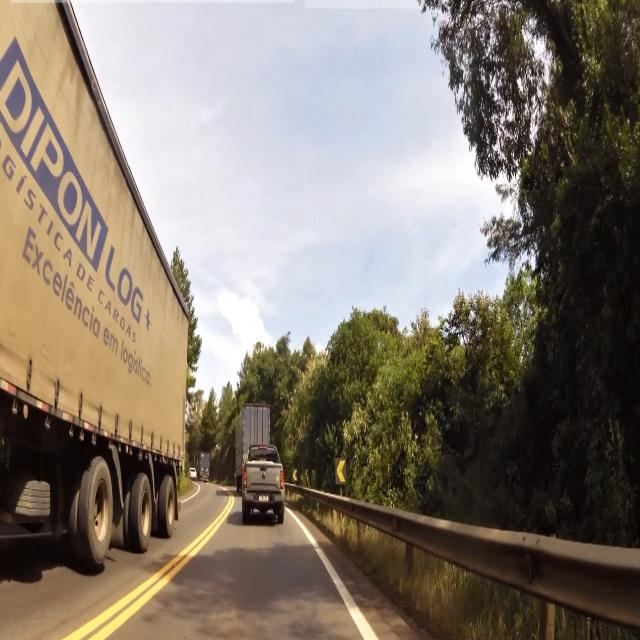Del: (335, 453, 348, 487)
